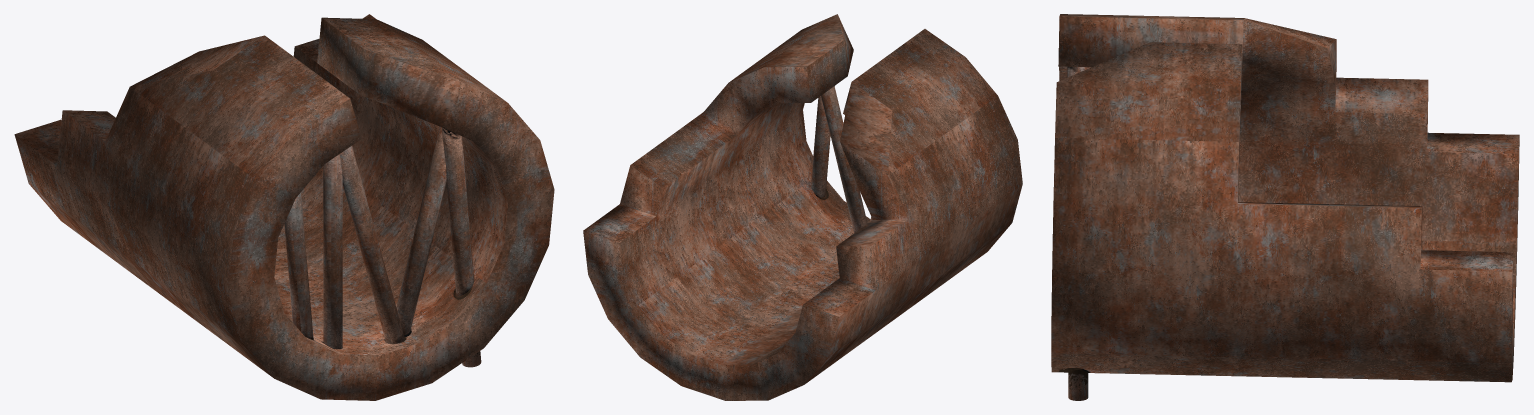
Rendered from tuberia_1.obj.
3 renders of one model, left to right at view 1: azimuth 30°, elevation 25°; view 2: azimuth 150°, elevation 25°; view 3: azimuth 270°, elevation 25°, orthographic. The views are drawn at different scales.
Parts seen in each view (by area): view 1: Tuberia1; view 2: Tuberia1; view 3: Tuberia1.
Part boxes in pixels (box(x1,y1,x2,y2)): Tuberia1: box(14, 14, 554, 400); Tuberia1: box(583, 14, 1022, 400); Tuberia1: box(1051, 14, 1519, 400).
Size of the model in its own units: 26.55 by 24.18 by 31.31.
1 material, 1 textured.
